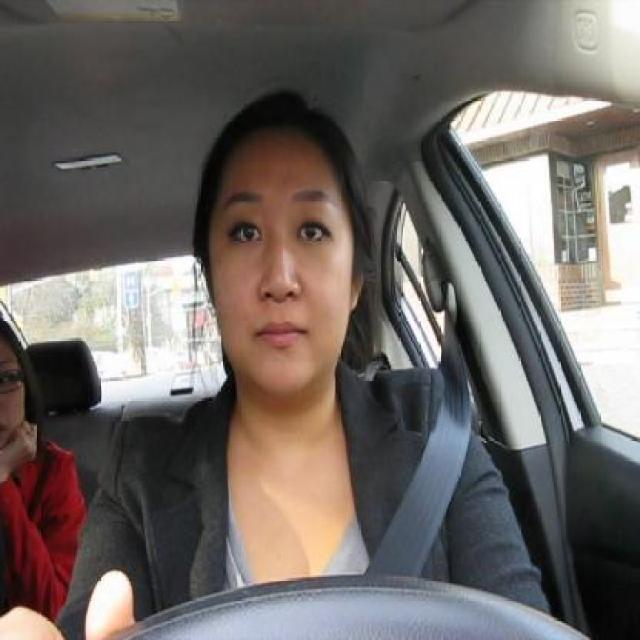awake: (296, 217, 327, 246), (230, 219, 262, 246)
